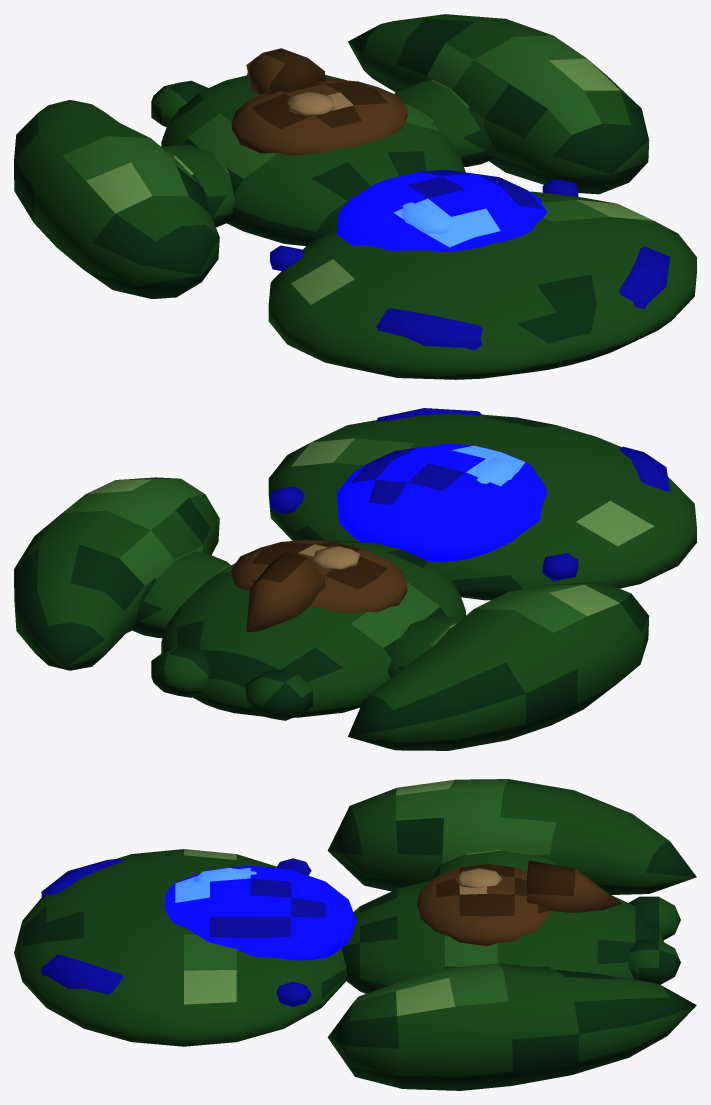
File: newshv-165.glb
The picture shows the model from 3 angles, top to bottom: view 1: azimuth 30°, elevation 25°; view 2: azimuth 150°, elevation 25°; view 3: azimuth 270°, elevation 25°; orthographic projection. The views are drawn at different scales.
Parts seen in each view (by area): view 1: newshv-165; view 2: newshv-165; view 3: newshv-165.
Part boxes in pixels (box(x1,y1,x2,y2)): newshv-165: box(14, 14, 696, 379); newshv-165: box(14, 408, 696, 750); newshv-165: box(14, 779, 696, 1090).
Size of the model in its own units: 1.86 by 0.4231 by 2.14.
